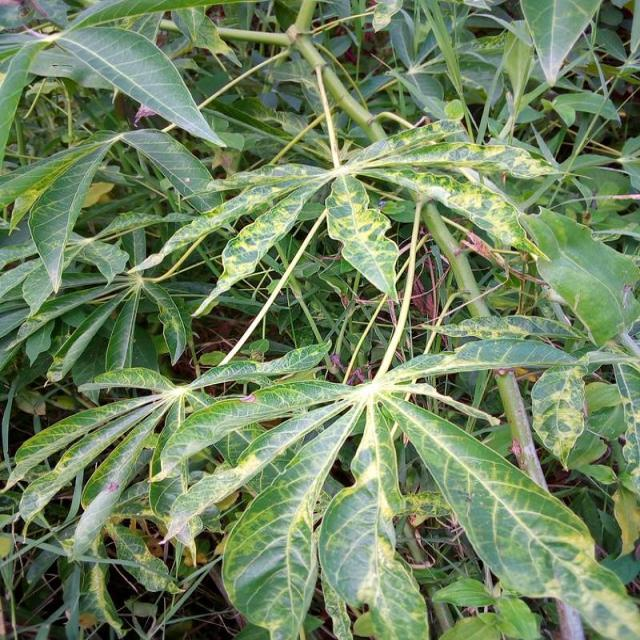cassava leaf: (0, 1, 638, 638), (380, 389, 638, 638), (53, 23, 226, 148)
